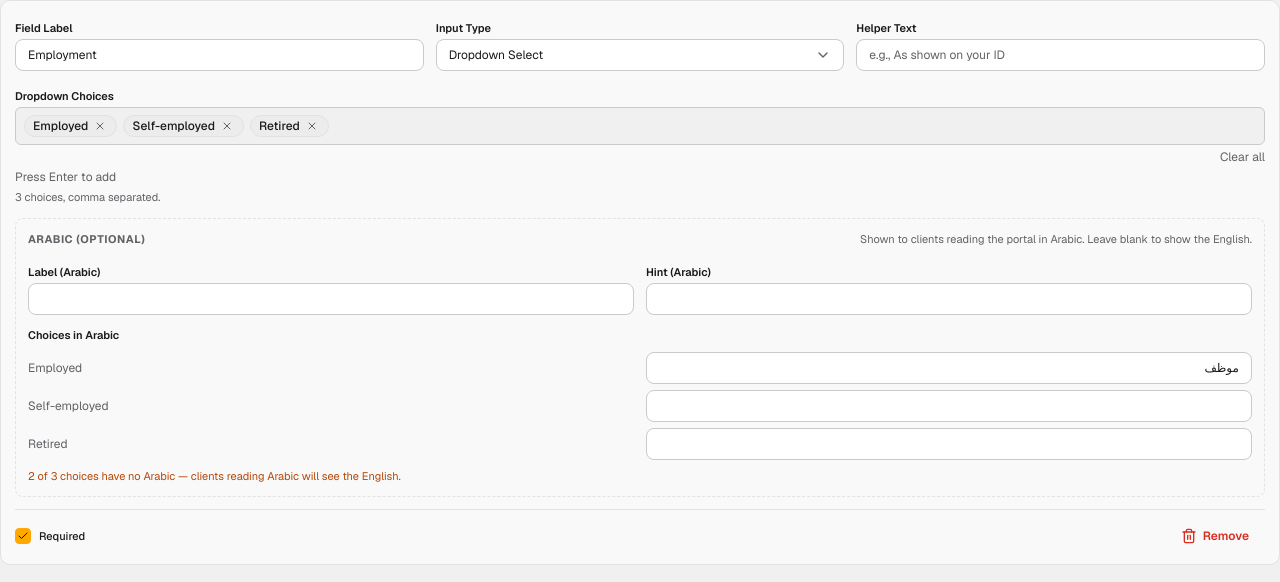
Test: the Arabic of a question › says how many choices have no Arabic, and stops once all do
Expected: the text "2 of 3 choices have no Arabic — clients reading Arabic will see the English" is shown, x1=28 y1=468 x2=401 y2=482
Step 1. Type "يعمل لحسابه" into the field named "Arabic for “Self-employed”" → (949, 406), box x1=646 y1=390 x2=1252 y2=422
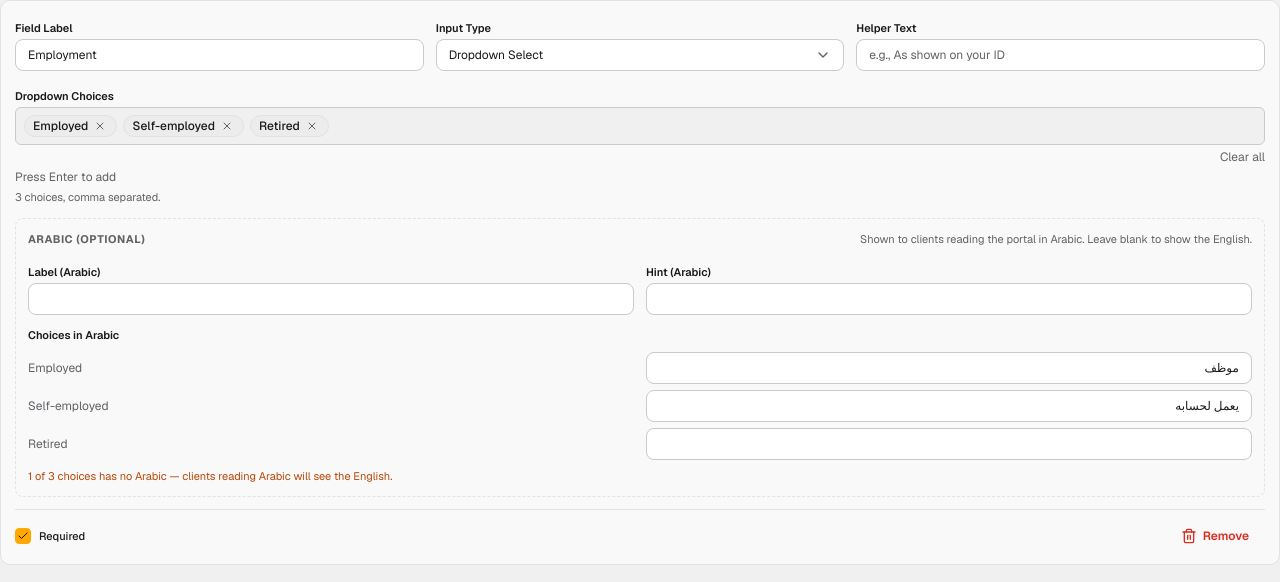
Now the text "1 of 3 choices has no Arabic" is shown, box x1=28 y1=468 x2=392 y2=482
Step 2. Type "متقاعد" into the field named "Arabic for “Retired”" → (949, 444), box x1=646 y1=428 x2=1252 y2=460
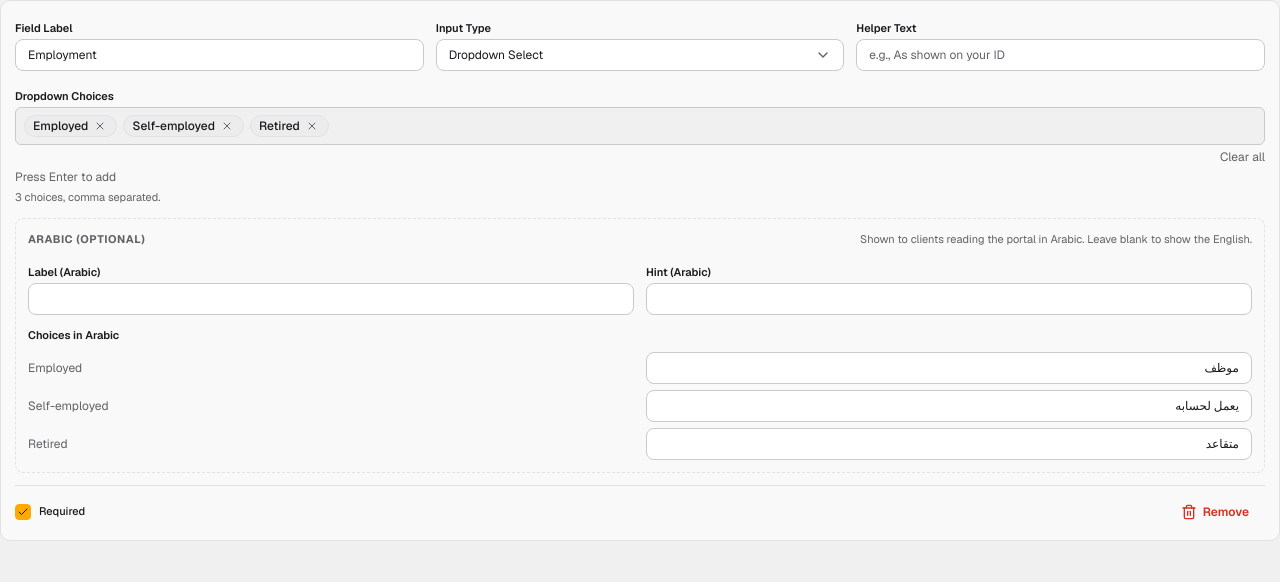
Now the text "no Arabic —" is gone
